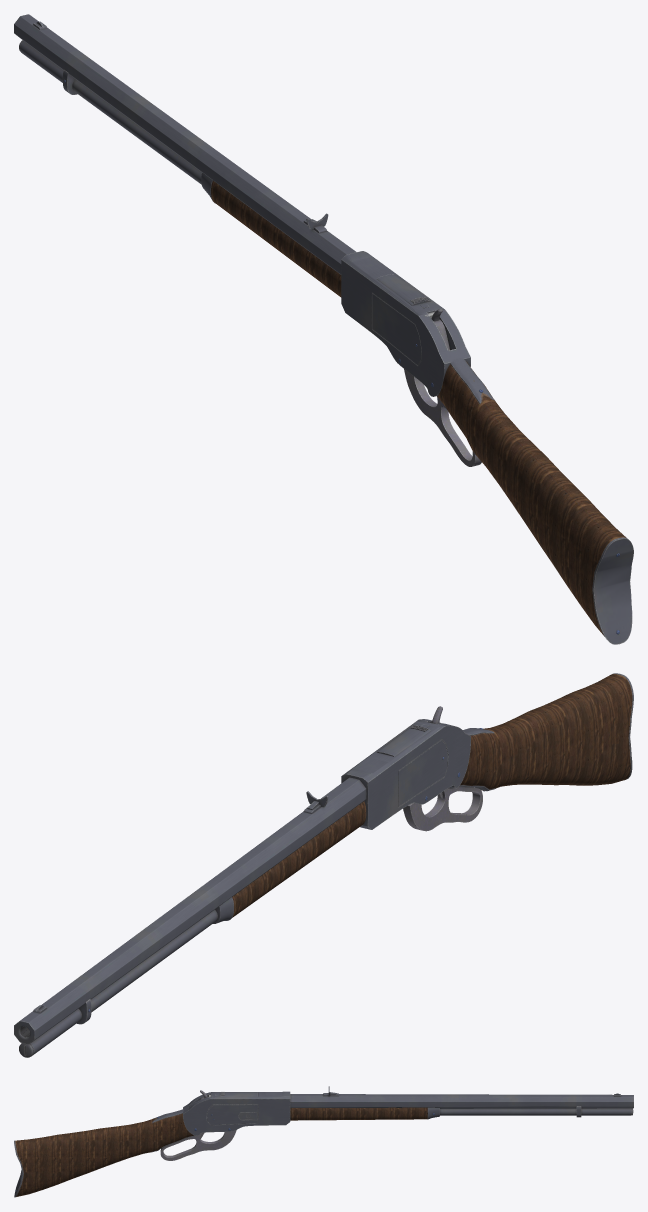
The model's file is win73_24.glb.
3 renders of one model, top to bottom at view 1: azimuth 30°, elevation 25°; view 2: azimuth 150°, elevation 25°; view 3: azimuth 270°, elevation 25°, orthographic. The views are drawn at different scales.
Visible parts, largest first — view 1: Buttstock, Barrel, Receiver, Buttplate, Forend, MagTube, Lever; view 2: Buttstock, Barrel, Receiver, Forend, MagTube, Lever, DustCover; view 3: Buttstock, Barrel, Receiver, Forend, MagTube, Lever, DustCover.
Part boxes in pixels (x1,y1,x2,y2): Buttstock: [437, 361, 626, 636]; Barrel: [14, 14, 356, 274]; Receiver: [341, 251, 493, 458]; Buttplate: [592, 537, 633, 644]; Forend: [211, 180, 341, 297]; MagTube: [19, 40, 201, 184]; Lever: [404, 369, 481, 466]; Buttstock: [460, 674, 632, 790]; Barrel: [14, 777, 366, 1044]; Receiver: [341, 719, 495, 829]; Forend: [232, 801, 366, 917]; MagTube: [19, 910, 217, 1057]; Lever: [403, 786, 482, 831]; DustCover: [376, 725, 430, 756]; Buttstock: [15, 1113, 193, 1196]; Barrel: [290, 1094, 633, 1108]; Receiver: [150, 1091, 290, 1152]; Forend: [290, 1107, 427, 1120]; MagTube: [440, 1108, 633, 1115]; Lever: [160, 1130, 236, 1160]; DustCover: [220, 1092, 257, 1096].
Bounding box in the file's own units: 0.0391 × 0.2105 × 1.1.
Materials: 5 (2 with a texture image).
